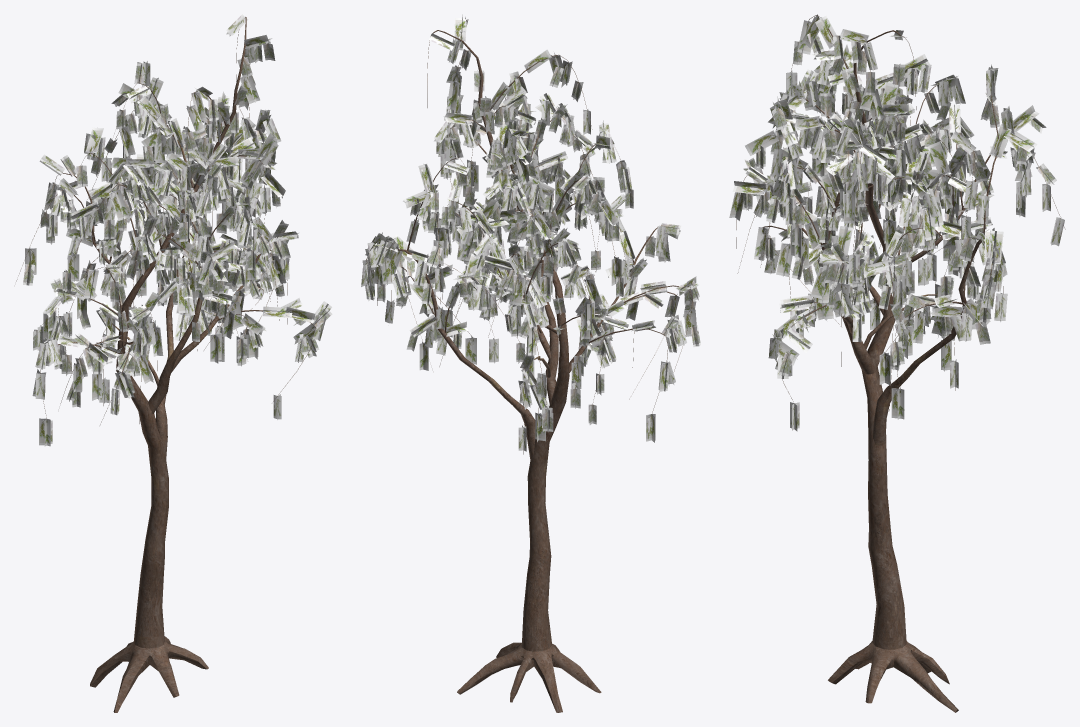
Rendered from SM_WIllowTree.fbx.
3 views of the same model, side by side, from view 1: azimuth 30°, elevation 25°; view 2: azimuth 150°, elevation 25°; view 3: azimuth 270°, elevation 25° (orthographic). The views are drawn at different scales.
Parts seen in each view (by area): view 1: SM_WIllowTree; view 2: SM_WIllowTree; view 3: SM_WIllowTree.
Boxes of the visible parts, x1=… form: SM_WIllowTree: x1=16, y1=14, x2=332, y2=712; SM_WIllowTree: x1=361, y1=14, x2=700, y2=712; SM_WIllowTree: x1=729, y1=14, x2=1065, y2=712.
Size of the model in its own units: 277 by 266 by 628.
2 materials, 2 textured.
